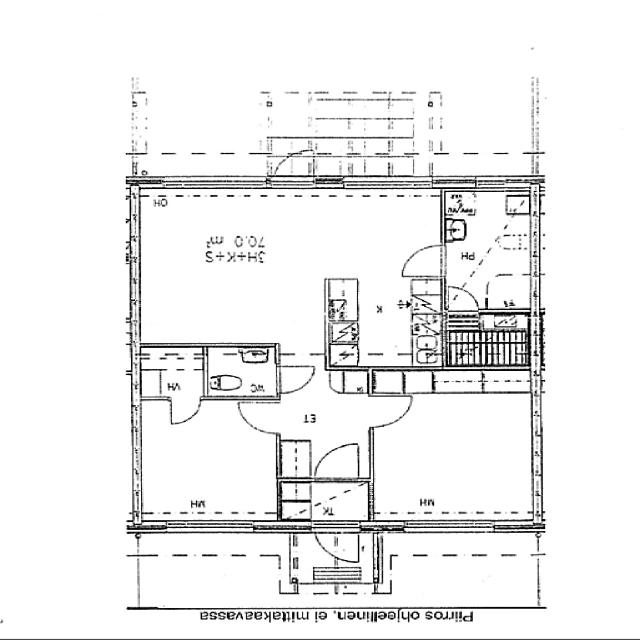door: (311, 439, 364, 481), (397, 241, 448, 280), (235, 398, 280, 435), (369, 394, 414, 428), (313, 526, 354, 561), (274, 363, 318, 395), (168, 396, 203, 427), (444, 285, 481, 312)
zone: (370, 383, 539, 524), (134, 397, 280, 522), (443, 193, 537, 314), (445, 312, 531, 366), (204, 346, 280, 400), (279, 480, 372, 522), (408, 369, 530, 393), (137, 362, 206, 399), (136, 348, 206, 372), (475, 368, 532, 394)
